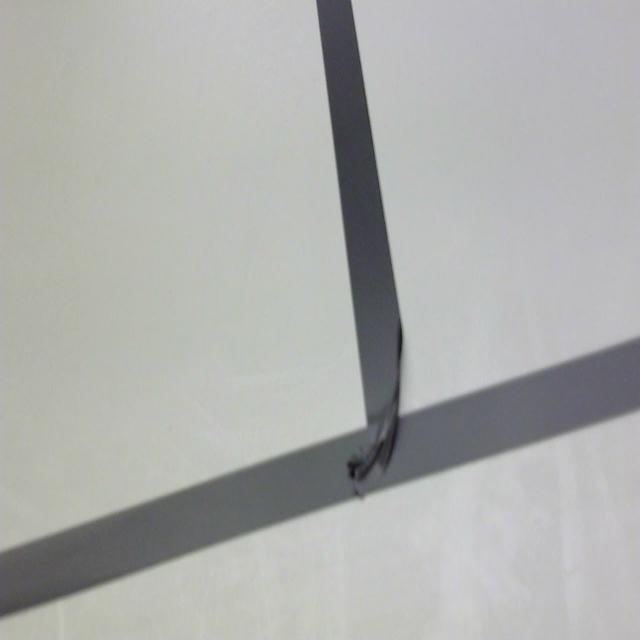tape: (0, 0, 640, 634)
